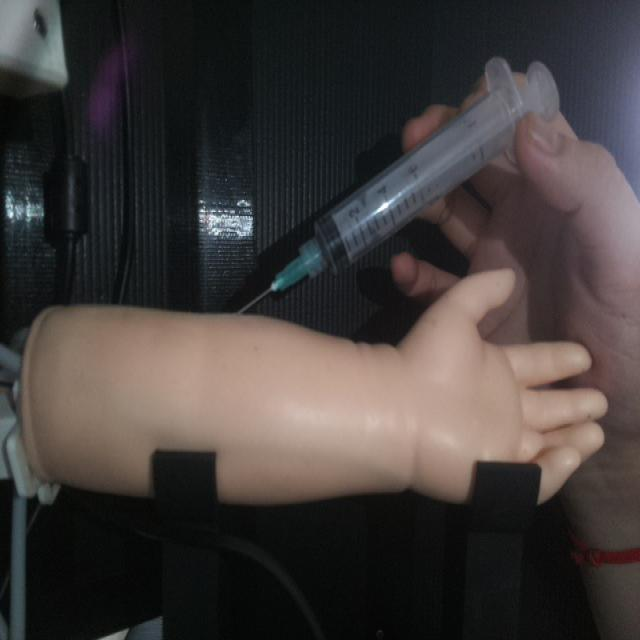Outside: (232, 53, 562, 315)
